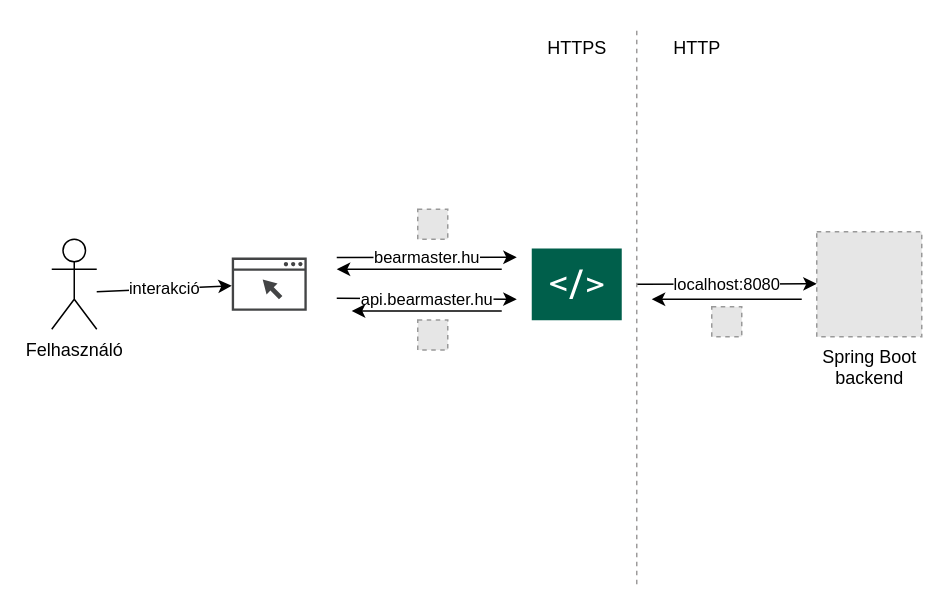
Some shapes in this 948 by 612 pixel diagram are drawn without their labels. Grey dashed boxes stand in for pictures. The shapes that lost their labels are listed below. From the top down, each one's centre as x and y in pixels, then its label:
pixel 268 283: Javascript Frontend
pixel 576 283: Web szerver (nginx)
